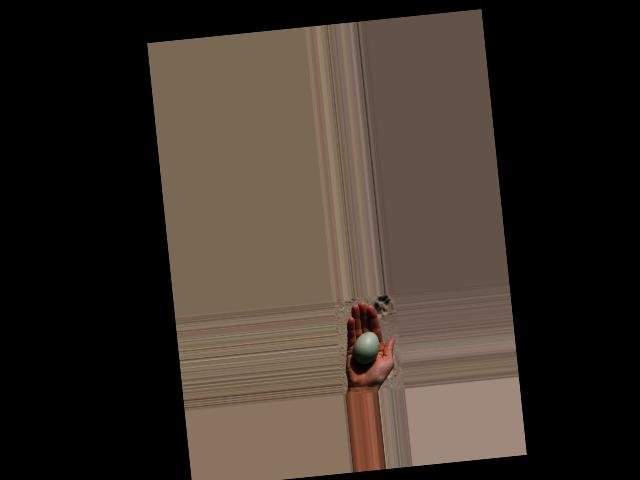egg: (350, 331, 380, 364)
